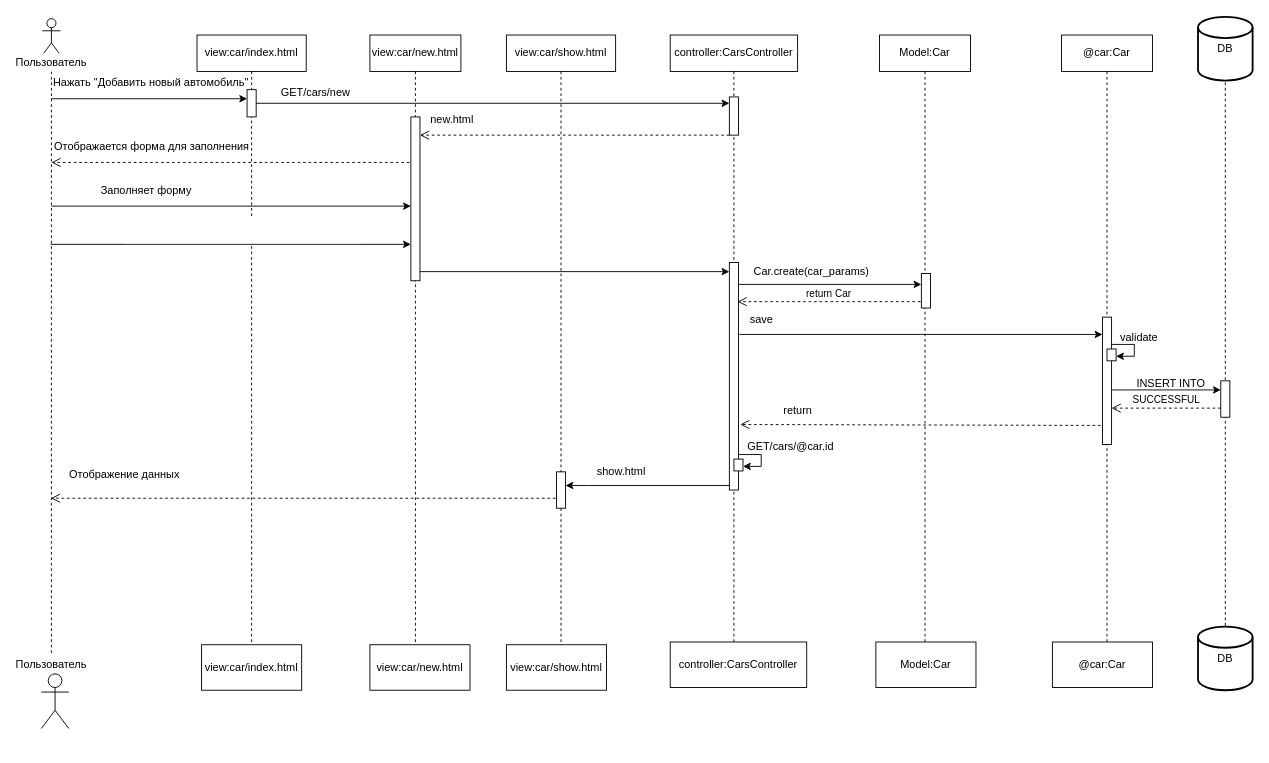
Image size: 1269x763. Some labels were removed from this diagram. Here are the shapes that lost their labels. From the top down, the centre of each, then its label:
the point at 242,229: Нажимает на кнопку Добавить автомобиль
the point at 487,256: POST/cars
the point at 54,700: Actor
